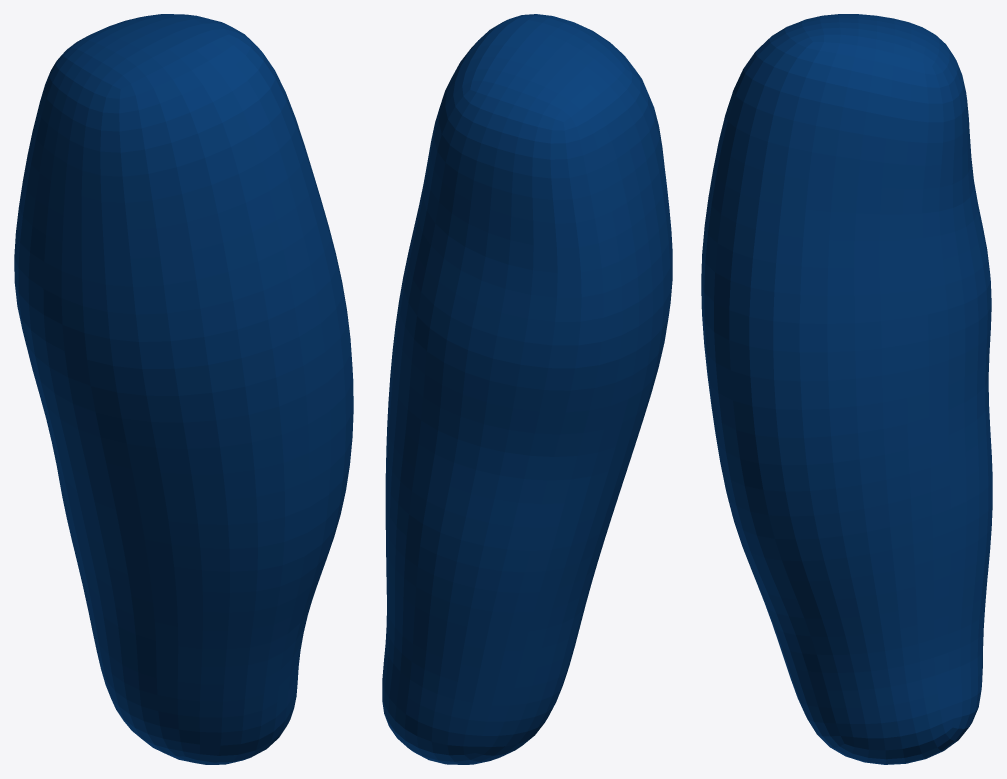
File: LeftThigh.fbx
3 views of the same model, side by side, from view 1: azimuth 30°, elevation 25°; view 2: azimuth 150°, elevation 25°; view 3: azimuth 270°, elevation 25° (orthographic). The views are drawn at different scales.
Parts seen in each view (by area): view 1: LeftThigh; view 2: LeftThigh; view 3: LeftThigh.
Boxes of the visible parts, left/top/right/bottom form: LeftThigh: left=14, top=14, right=353, bottom=764; LeftThigh: left=382, top=14, right=672, bottom=764; LeftThigh: left=701, top=14, right=992, bottom=764.
Bounding box in the file's own units: 0.1909 × 0.5048 × 0.1887.
